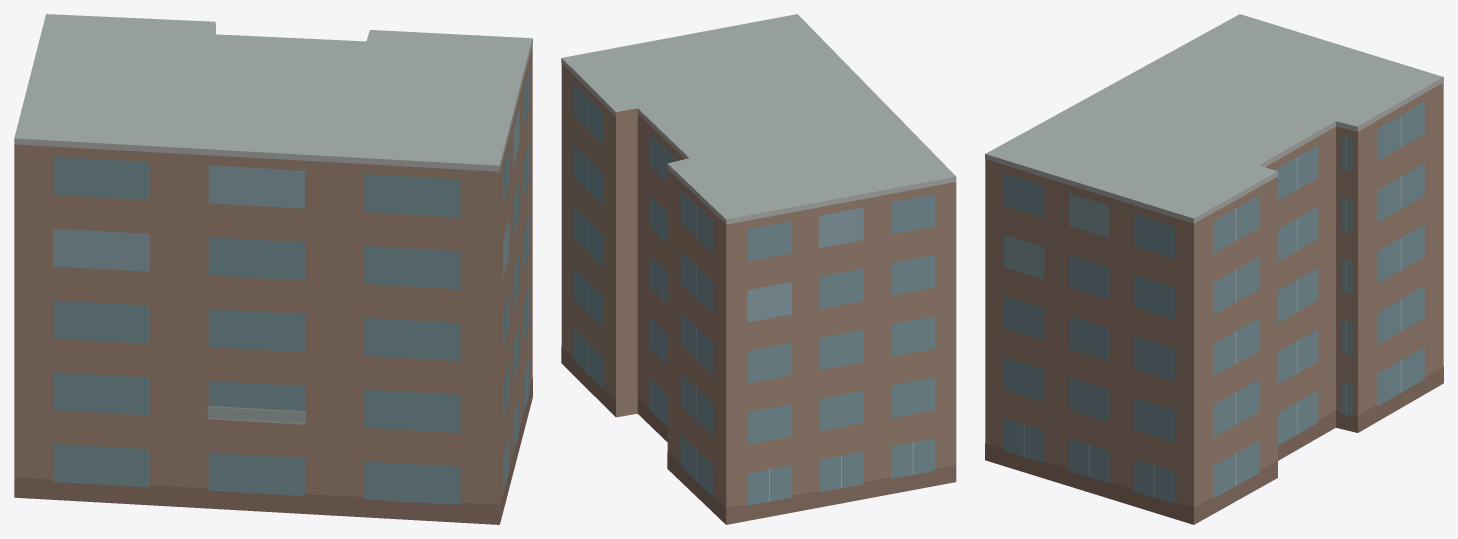
Rendered from survey-upis-32630269.glb.
The picture shows the model from 3 angles, left to right: view 1: azimuth 30°, elevation 25°; view 2: azimuth 150°, elevation 25°; view 3: azimuth 270°, elevation 25°; orthographic projection. The views are drawn at different scales.
Parts seen in each view (by area): view 1: survey-upis-32630269.tmp; view 2: survey-upis-32630269.tmp; view 3: survey-upis-32630269.tmp.
Boxes of the visible parts, box(x1,y1,x2,y2) form: survey-upis-32630269.tmp: box(14, 14, 532, 524); survey-upis-32630269.tmp: box(561, 14, 956, 524); survey-upis-32630269.tmp: box(985, 14, 1443, 524).
Size of the model in its own units: 20.92 by 14.6 by 19.82.
